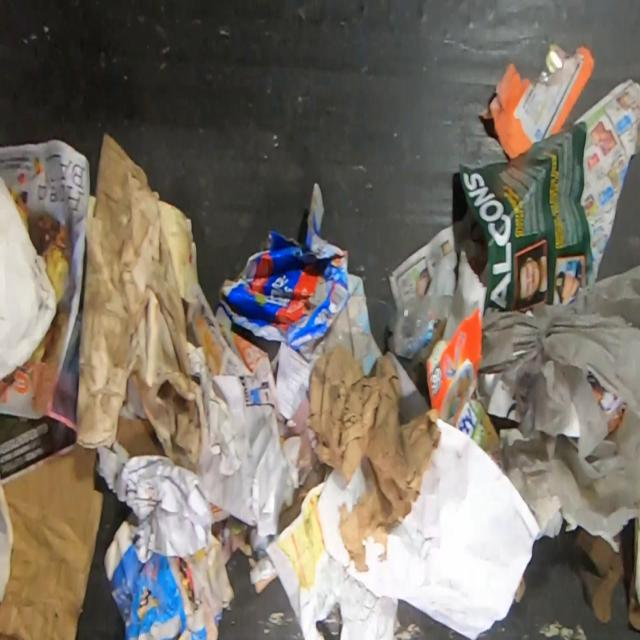cardboard: (213, 182, 364, 364), (0, 442, 106, 639), (103, 520, 236, 639), (426, 306, 503, 474)
soft_plastic: (478, 264, 640, 554), (386, 294, 454, 361)
